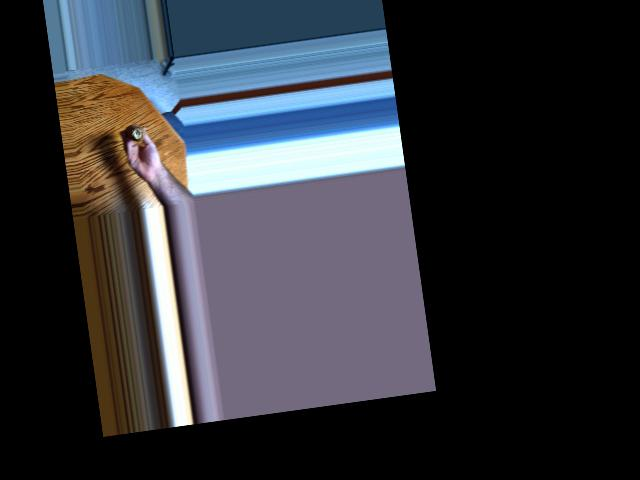sweet_potato: (128, 120, 147, 141)
